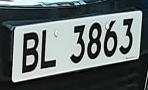3: (69, 21, 87, 64), (119, 14, 135, 58)
6: (102, 17, 119, 58)
8: (86, 19, 103, 61)
B: (20, 28, 39, 73)
L: (39, 26, 59, 72)
